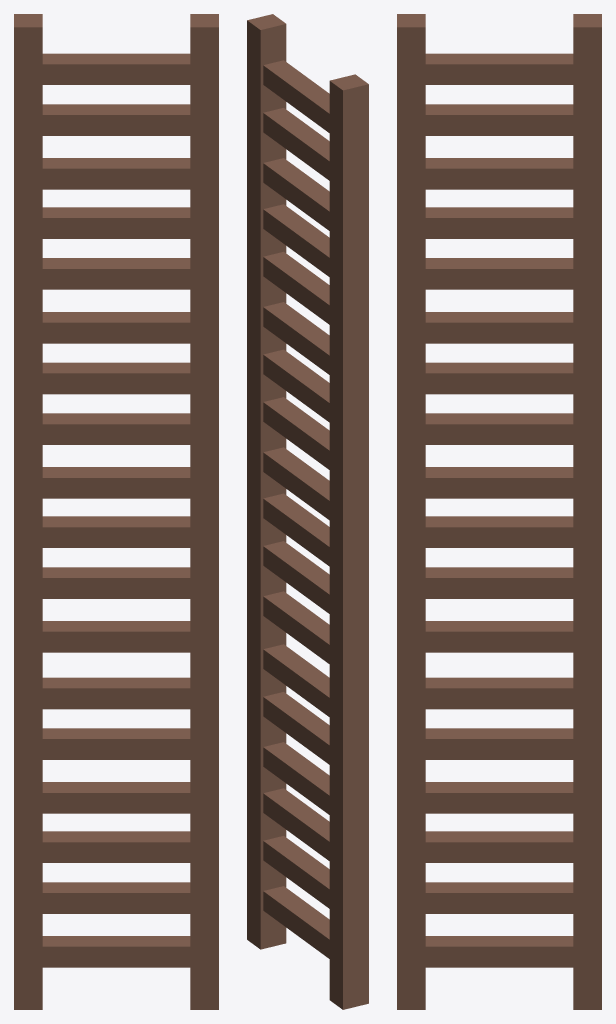
The model's file is ladder.fbx.
3 renders of one model, left to right at view 1: azimuth 90°, elevation 25°; view 2: azimuth 210°, elevation 25°; view 3: azimuth 270°, elevation 25°, orthographic. The views are drawn at different scales.
Parts seen in each view (by area): view 1: Cube; view 2: Cube; view 3: Cube.
Part boxes in pixels (<box>): Cube: <box>14,14,218,1009</box>; Cube: <box>247,14,368,1009</box>; Cube: <box>397,14,601,1009</box>.
Bounding box in the file's own units: 32.51 × 1106 × 209.
